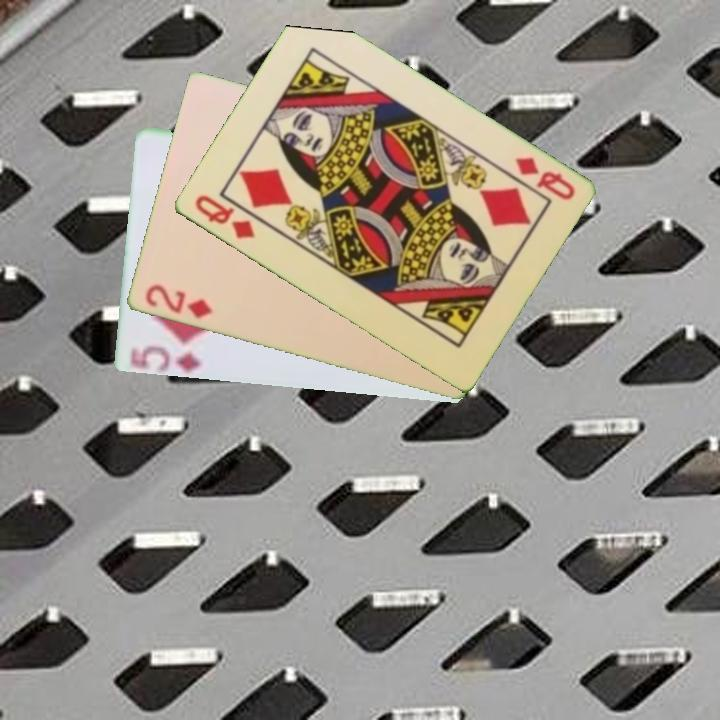2d: (141, 281, 215, 322)
5d: (129, 342, 205, 375)
Qd: (190, 191, 258, 242), (511, 153, 578, 204)
